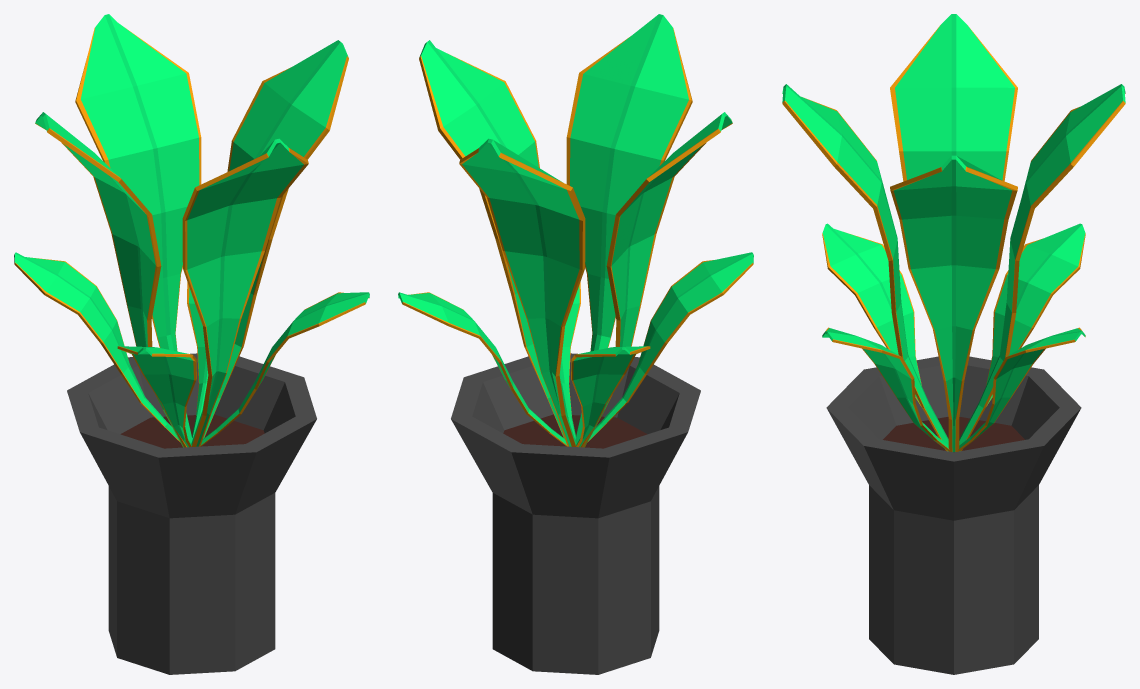
Rendered from Plant.fbx.
The picture shows the model from 3 angles, left to right: view 1: azimuth 30°, elevation 25°; view 2: azimuth 150°, elevation 25°; view 3: azimuth 270°, elevation 25°; orthographic projection.
Visible parts, largest first — view 1: Plant_2; view 2: Plant_2; view 3: Plant_2.
Boxes of the visible parts, x1,y1,x2,y2 form: Plant_2: [14, 14, 369, 674]; Plant_2: [398, 14, 753, 674]; Plant_2: [782, 14, 1125, 674].
Size of the model in its own units: 80.7 by 144 by 80.7.
